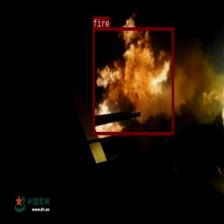fire: (92, 27, 174, 134)
